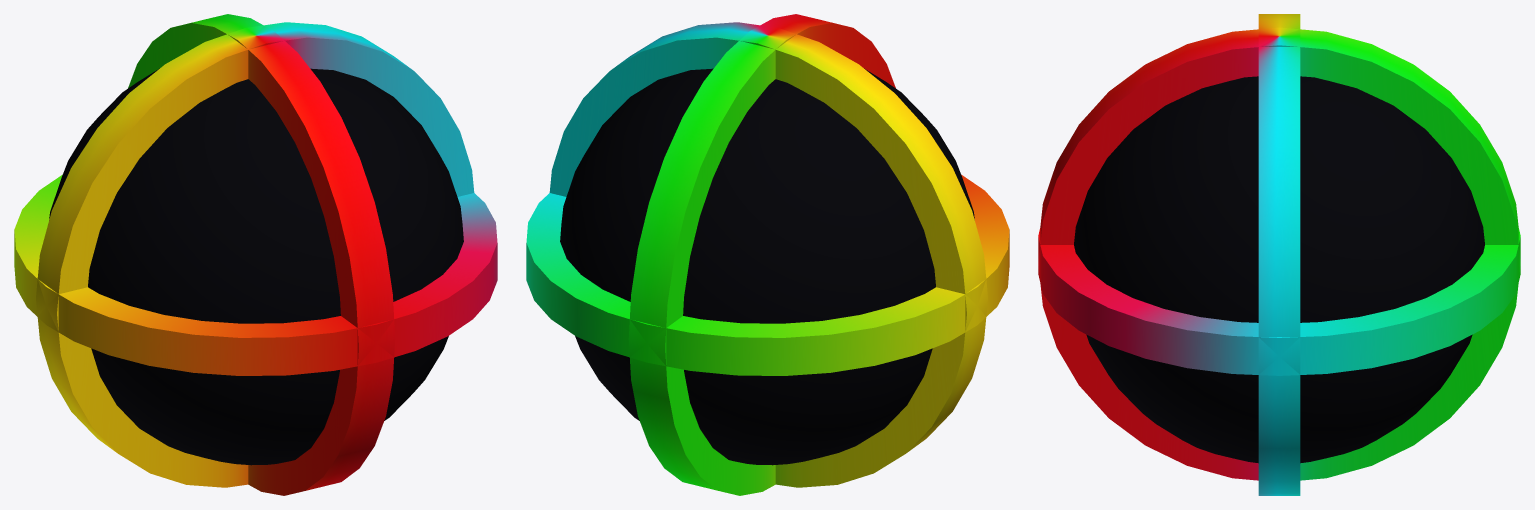
Rendered from Ball-24.dae.
3 views of the same model, side by side, from view 1: azimuth 30°, elevation 25°; view 2: azimuth 150°, elevation 25°; view 3: azimuth 270°, elevation 25° (orthographic).
Parts seen in each view (by area): view 1: Ball; view 2: Ball; view 3: Ball.
Boxes of the visible parts, x1,y1,x2,y2 form: Ball: (14,14,497,495); Ball: (526,14,1009,495); Ball: (1038,14,1520,495).
Bounding box in the file's own units: 0.046 × 0.046 × 0.046.
Materials: 2 (1 with a texture image).
